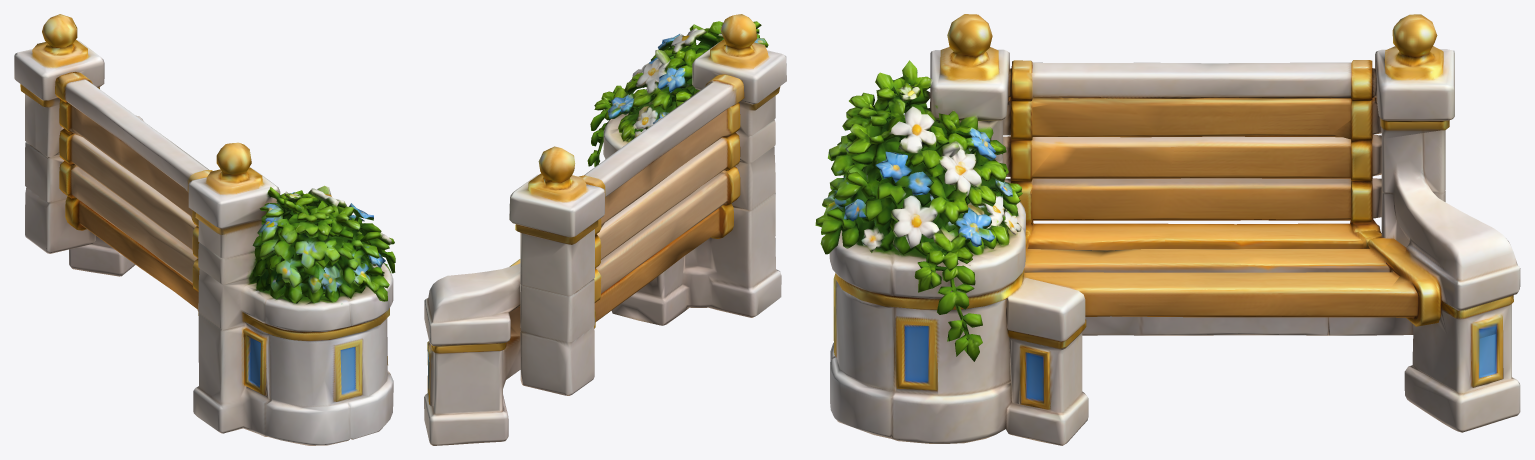
The model's file is HaloReasonHQ_BenchB_HD_src.glb.
3 renders of one model, left to right at view 1: azimuth 30°, elevation 25°; view 2: azimuth 150°, elevation 25°; view 3: azimuth 270°, elevation 25°, orthographic. The views are drawn at different scales.
Parts seen in each view (by area): view 1: tripo_node_376815c5-15f9-456b-b804-30fe297289e9; view 2: tripo_node_376815c5-15f9-456b-b804-30fe297289e9; view 3: tripo_node_376815c5-15f9-456b-b804-30fe297289e9.
Boxes of the visible parts, x1=… form: tripo_node_376815c5-15f9-456b-b804-30fe297289e9: x1=14, y1=14, x2=395, y2=445; tripo_node_376815c5-15f9-456b-b804-30fe297289e9: x1=424, y1=14, x2=786, y2=445; tripo_node_376815c5-15f9-456b-b804-30fe297289e9: x1=815, y1=14, x2=1520, y2=445.
Bounding box in the file's own units: 0.3637 × 0.5382 × 0.9785.
1 material, 1 textured.
